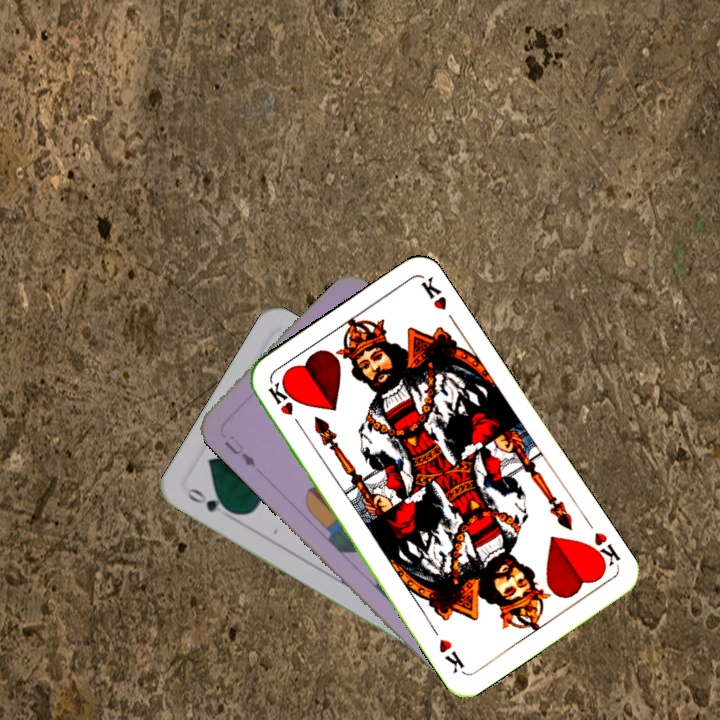EU: (219, 431, 258, 470)
GO: (183, 484, 238, 522)
HK: (263, 378, 306, 432), (583, 528, 623, 573)
